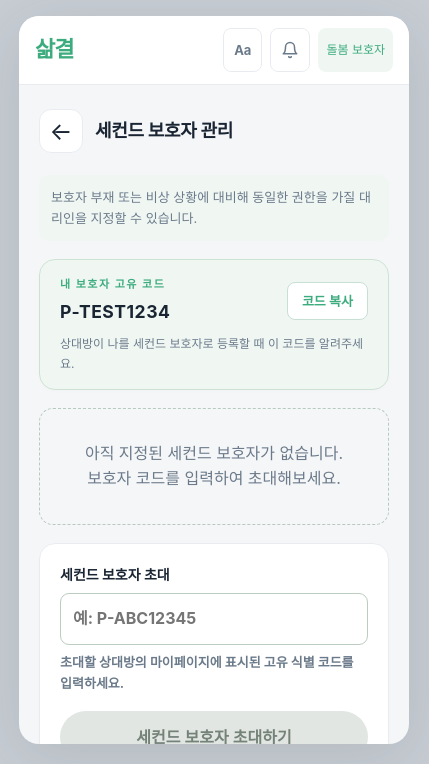
Test: SecondaryGuardianPage › 사용자에게 등록된 내 보호자 고유 코드가 표시되고 복사할 수 있다
The width and height of the screenshot is (429, 764).
Check: the text "내 보호자 고유 코드" is shown, box 60,276 -> 170,293
Check: the text "P-TEST1234" is shown, box 60,298 -> 170,326
Click the button "코드 복사": (327, 301) 287,282 -> 368,320
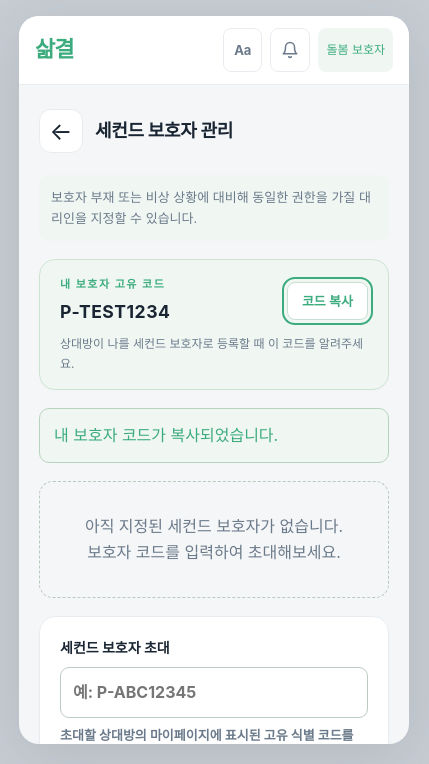
Check: the message reads "내 보호자 코드가 복사되었습니다.", box 54,425 -> 278,445
